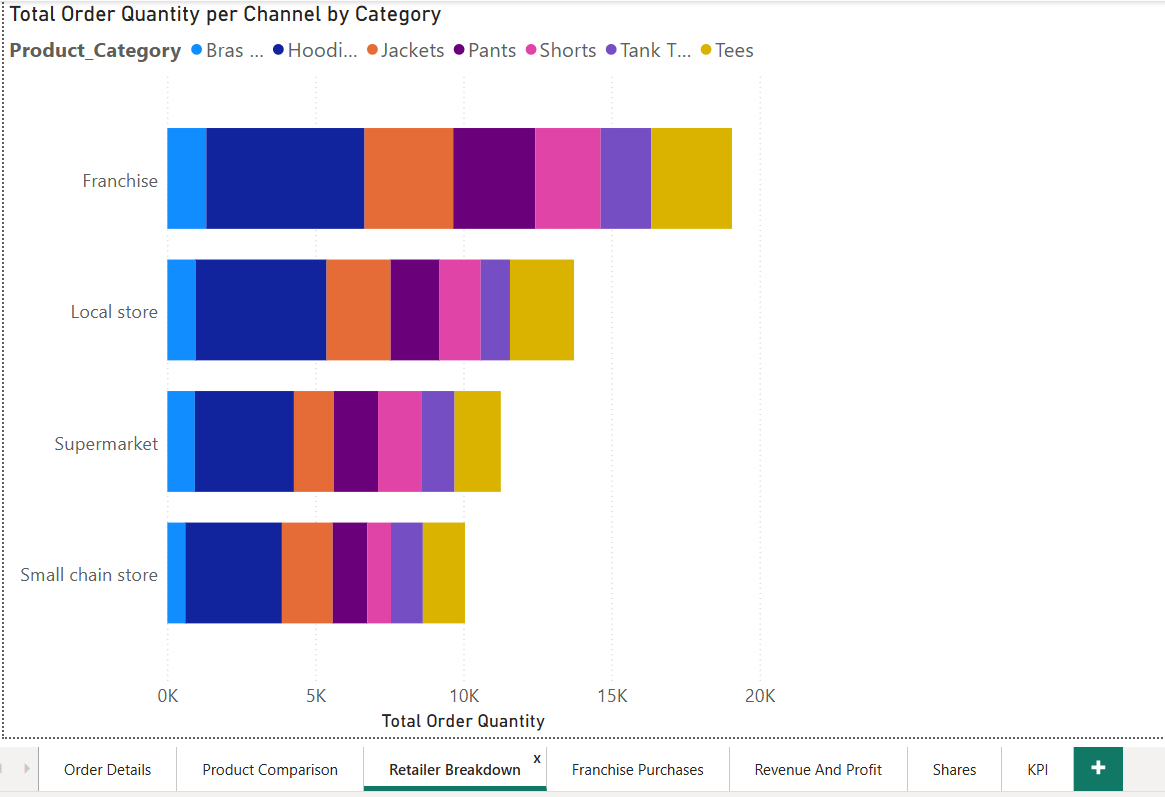

This screenshot's page, from the dashboard's own definition file:
{"tool":"powerbi","page":{"name":"Retailer Breakdown","canvas":[1280,720],"ordinal":2},"visuals":[{"type":"barChart","title":"Total Order Quantity per Channel by Category","fields":{"Y":["Sum(Orders. Order_Quantity )"],"Category":["Retailers.Retailer_Channel"],"Series":["Products.Product_Category"]},"box":[0,0,759.4,719.6],"z":0}]}

Visuals, with their boxes on the page's 1280x720 design canvas (x1, y1, x2, y2). These are canvas units, not pixel positions in the 1165x797 screenshot, which may show the page scaled, cropped or inside an application window:
"Total Order Quantity per Channel by Category" barChart: [0,0,759,720]
